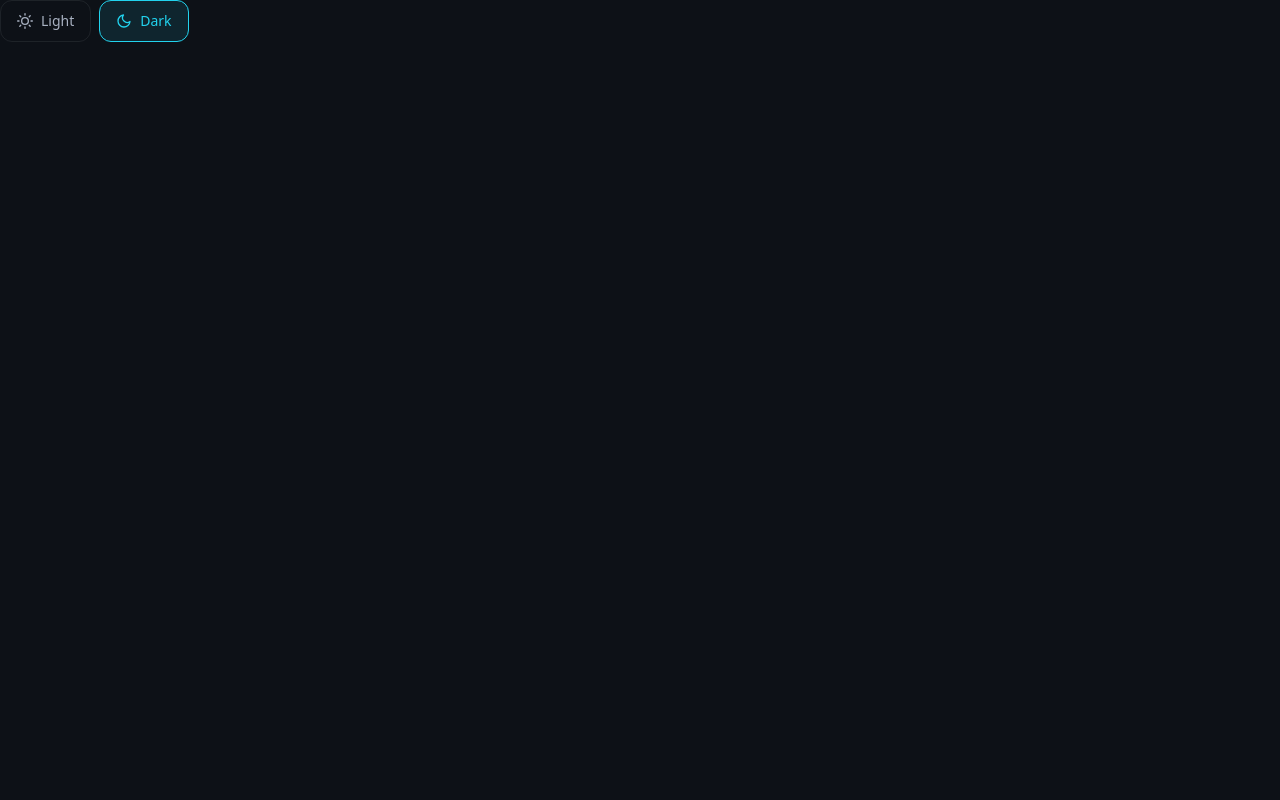
Test: ThemeSwitch: pressed state › colours the pressed button sky-700 in light and signal in dark, never bare text-signal
Click the button "Light" at (46, 21), box [0, 0, 91, 42]
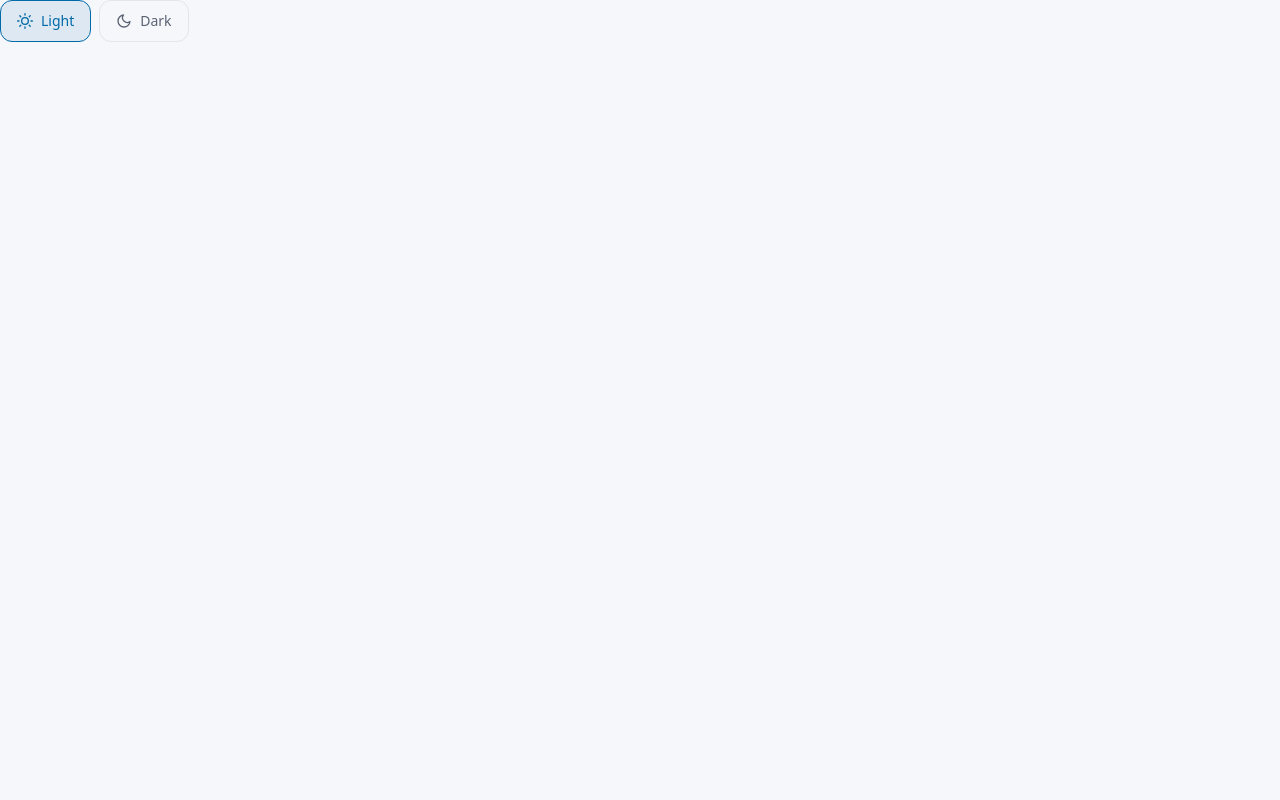
Result: the button "Light" is pressed at [0, 0, 91, 42]
Result: the button "Light" has class "text-sky-700" at [0, 0, 91, 42]
